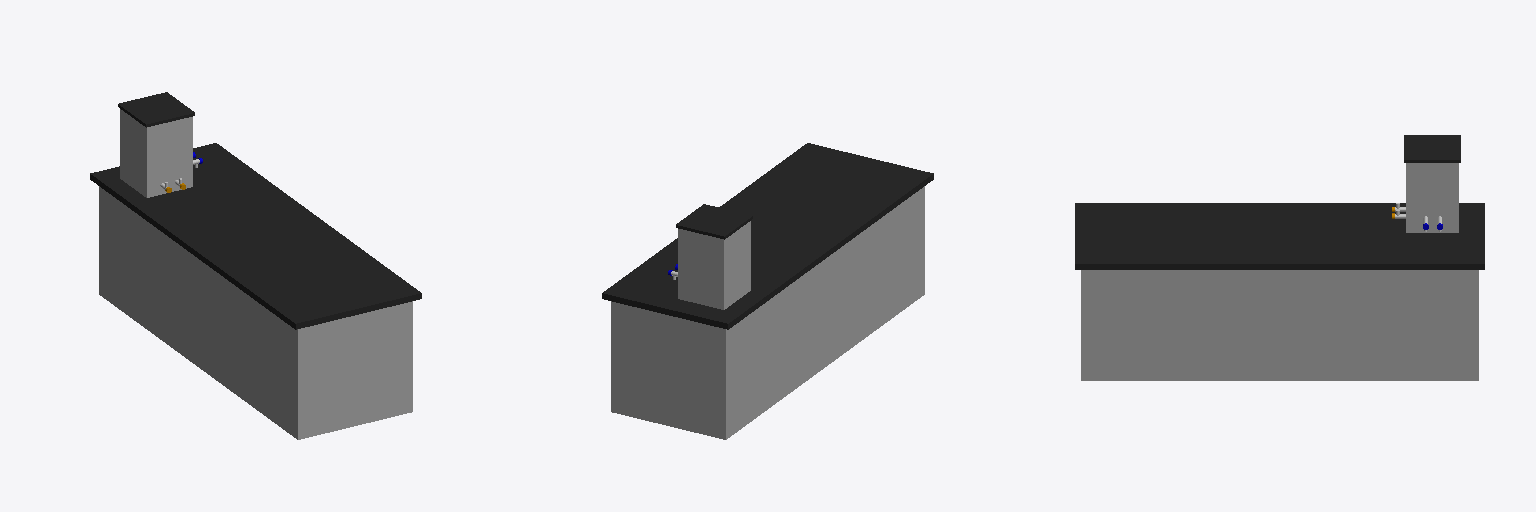
The model's file is Tafel.obj.
3 views of the same model, side by side, from view 1: azimuth 30°, elevation 25°; view 2: azimuth 150°, elevation 25°; view 3: azimuth 270°, elevation 25° (orthographic).
Visible parts, largest first — view 1: Blad_Cube.003, Kraantoren_Cube.002, Cube.001_Cube.006; view 2: Blad_Cube.003, Kraantoren_Cube.002, Cube.001_Cube.006; view 3: Blad_Cube.003, Kraantoren_Cube.002, Cube.001_Cube.006.
Boxes of the visible parts, x1,y1,x2,y2 form: Blad_Cube.003: [90, 143, 421, 439]; Kraantoren_Cube.002: [120, 109, 192, 197]; Cube.001_Cube.006: [118, 92, 194, 127]; Blad_Cube.003: [602, 143, 933, 439]; Kraantoren_Cube.002: [678, 221, 750, 309]; Cube.001_Cube.006: [676, 204, 752, 239]; Blad_Cube.003: [1075, 203, 1484, 380]; Kraantoren_Cube.002: [1406, 163, 1458, 232]; Cube.001_Cube.006: [1404, 135, 1460, 162].
Bounding box in the file's own units: 2.2 × 3.24 × 6.2.